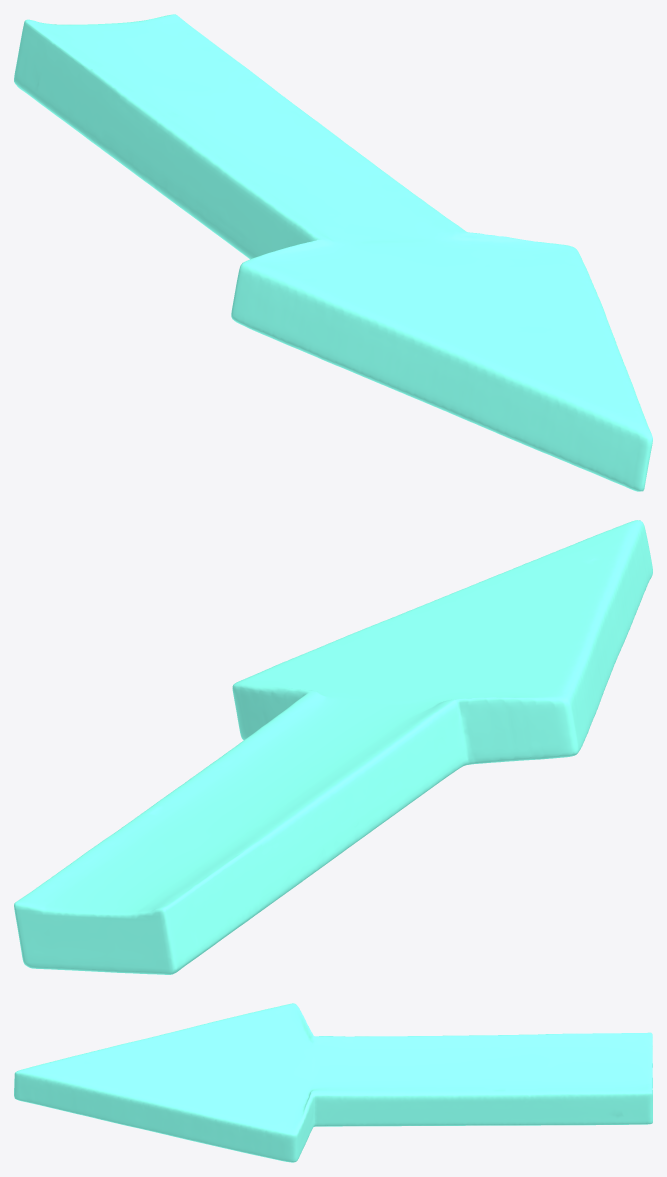
Rendered from modelblue.glb.
The picture shows the model from 3 angles, top to bottom: view 1: azimuth 30°, elevation 25°; view 2: azimuth 150°, elevation 25°; view 3: azimuth 270°, elevation 25°; orthographic projection. The views are drawn at different scales.
Visible parts, largest first — view 1: Mesh_0.004; view 2: Mesh_0.004; view 3: Mesh_0.004.
Part boxes in pixels (x1=…): Mesh_0.004: x1=14, y1=14, x2=652, y2=491; Mesh_0.004: x1=14, y1=520, x2=652, y2=974; Mesh_0.004: x1=14, y1=1003, x2=652, y2=1162.
Bounding box in the file's own units: 0.7186 × 0.2415 × 2.
